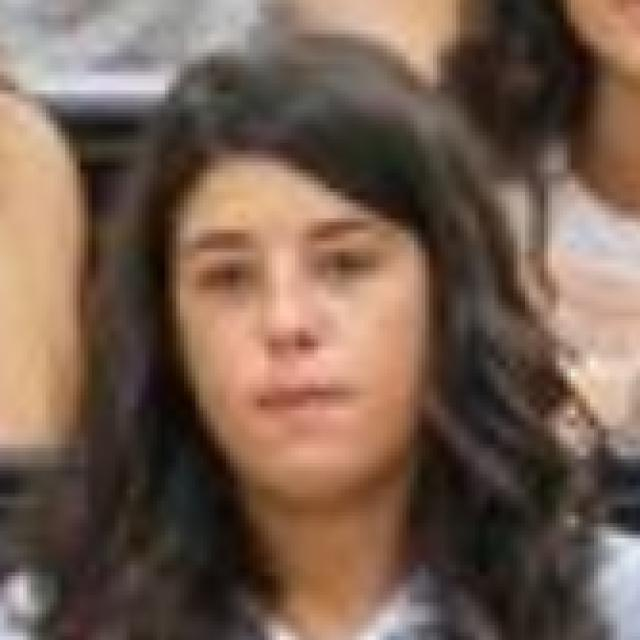Attentive: (172, 150, 414, 500)
